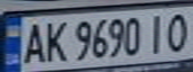0: (124, 14, 145, 56)
6: (90, 16, 112, 60)
9: (69, 17, 93, 62), (106, 15, 127, 58)
A: (18, 19, 48, 64)
I: (145, 11, 169, 55)
K: (39, 17, 69, 64)
O: (163, 9, 193, 53)
